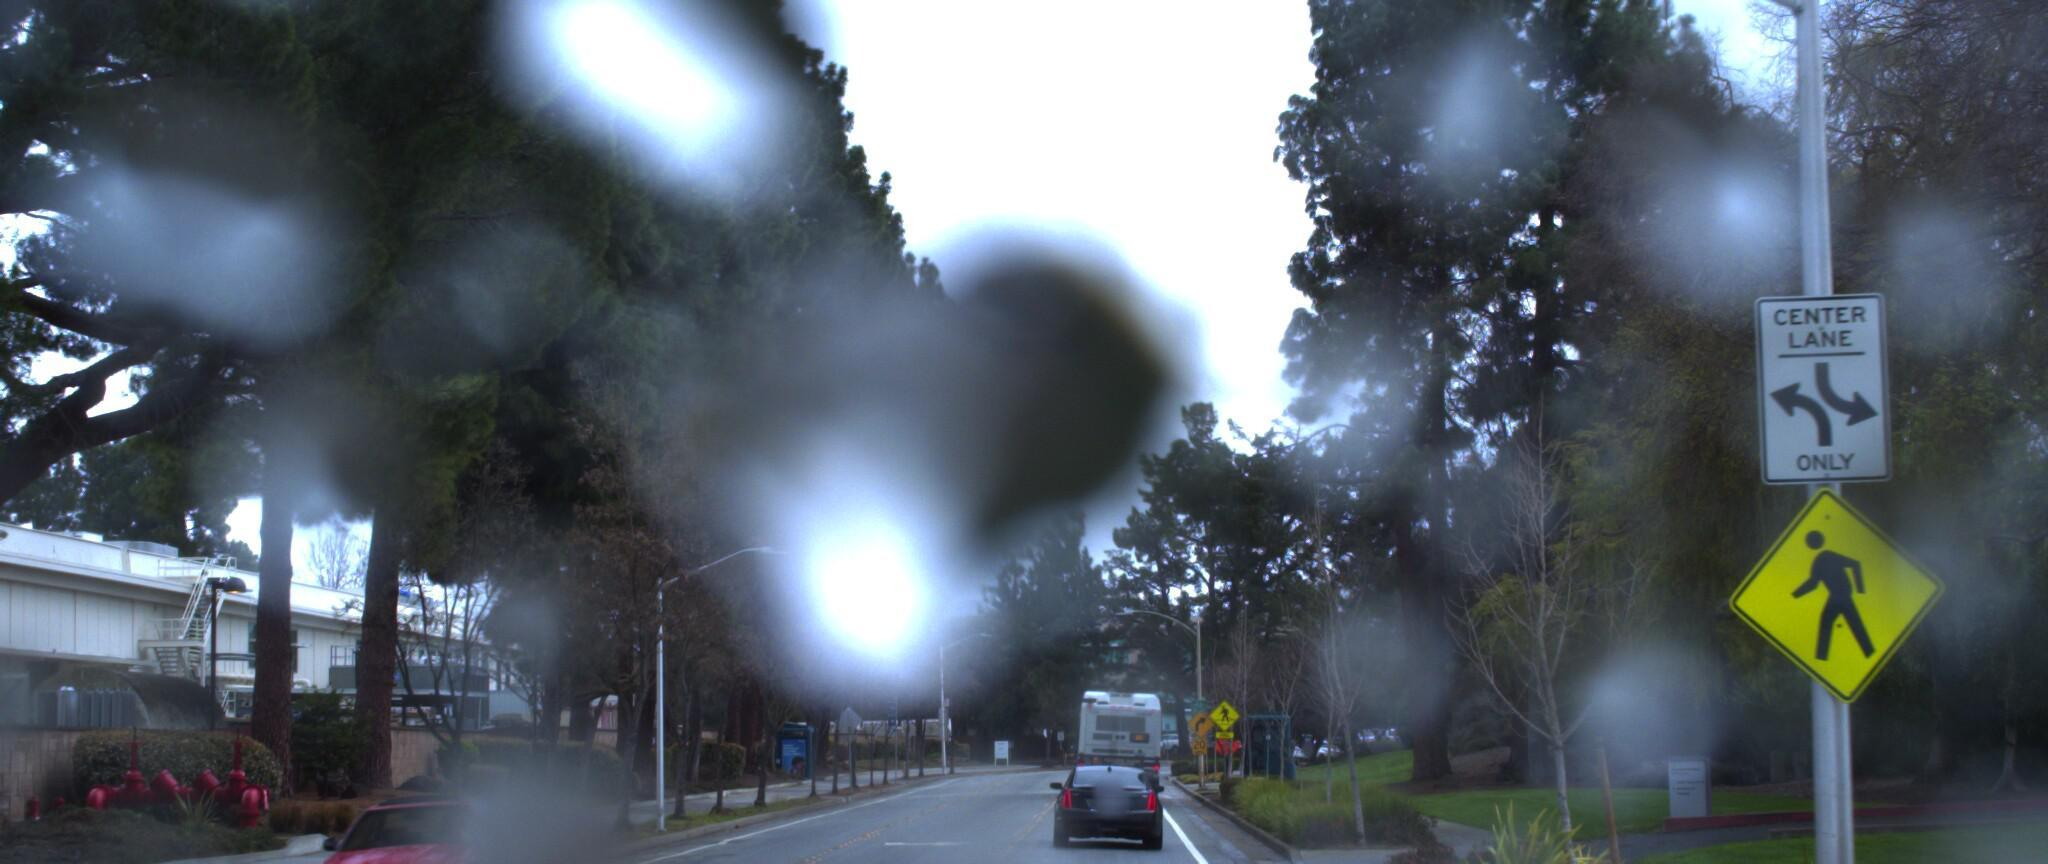car: (286, 783, 550, 864), (1050, 766, 1166, 864)
